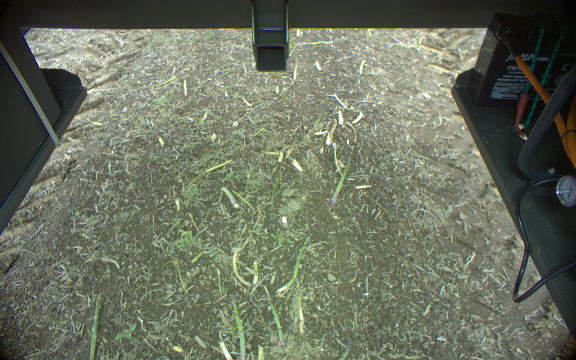aspa: (274, 234, 310, 291), (230, 294, 251, 360), (261, 295, 286, 345), (88, 291, 105, 360), (330, 154, 352, 205), (334, 339, 354, 360), (256, 343, 265, 360)
